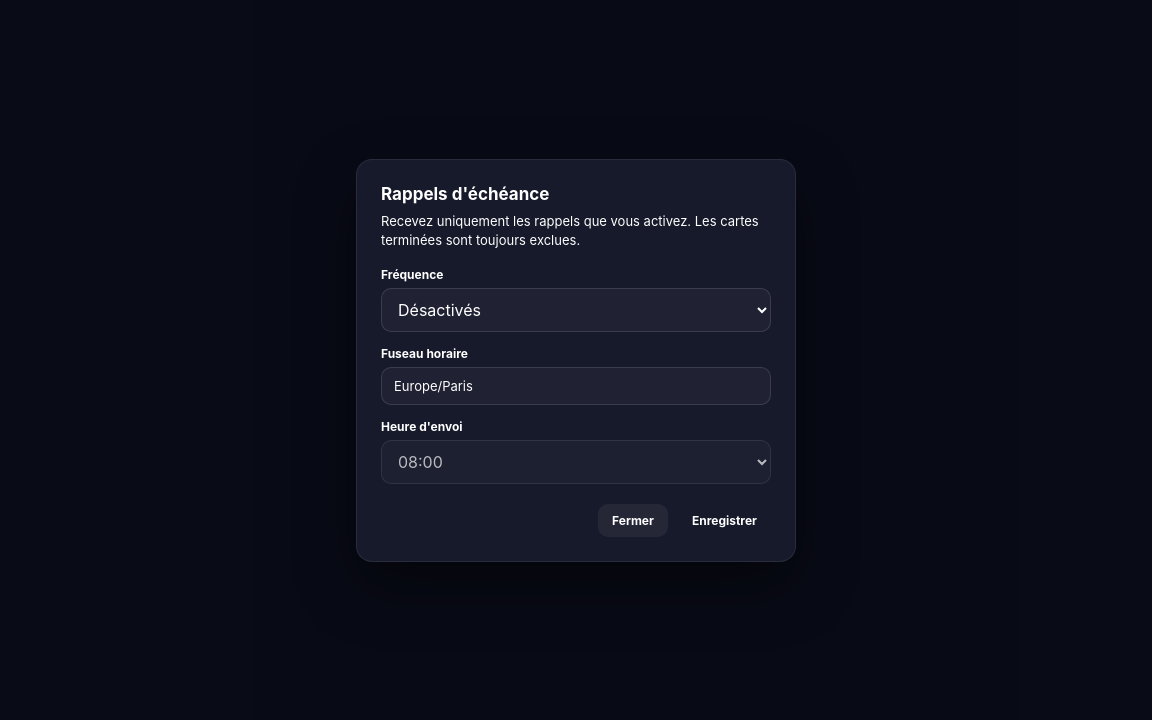
Scenario: loads explicit preferences and saves an opt-in
Select "Chaque jour" in the dropdown labelled "Fréquence". click: coordinates (576, 310)
box: [381,288,771,332]
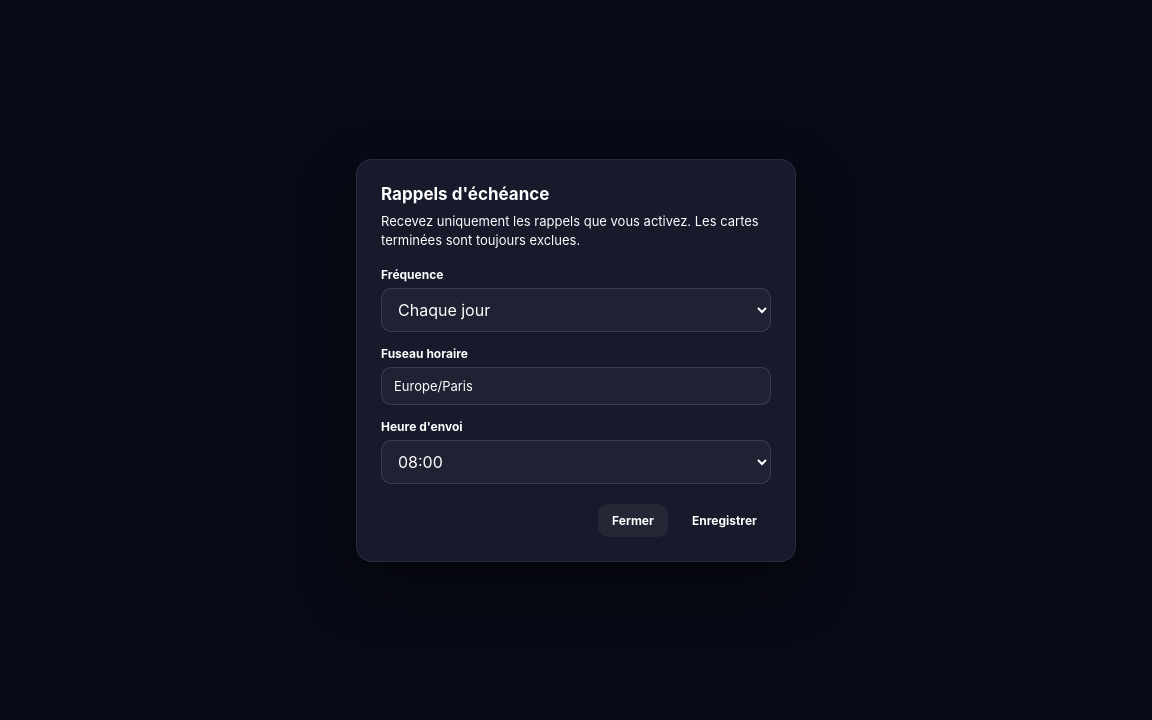
Select "09:00" in the dropdown labelled "Heure d'envoi". click: coordinates (576, 462)
box: [381,440,771,484]
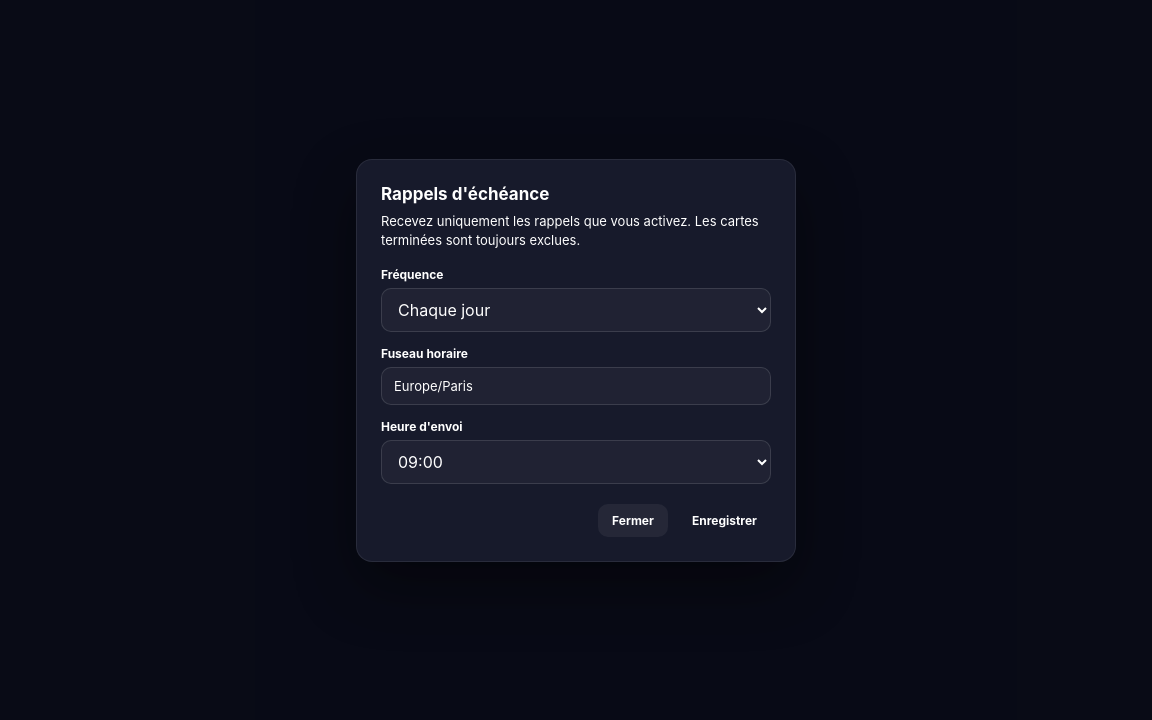
Click the button "Enregistrer". click: coordinates (724, 520)
box: [678,504,771,536]
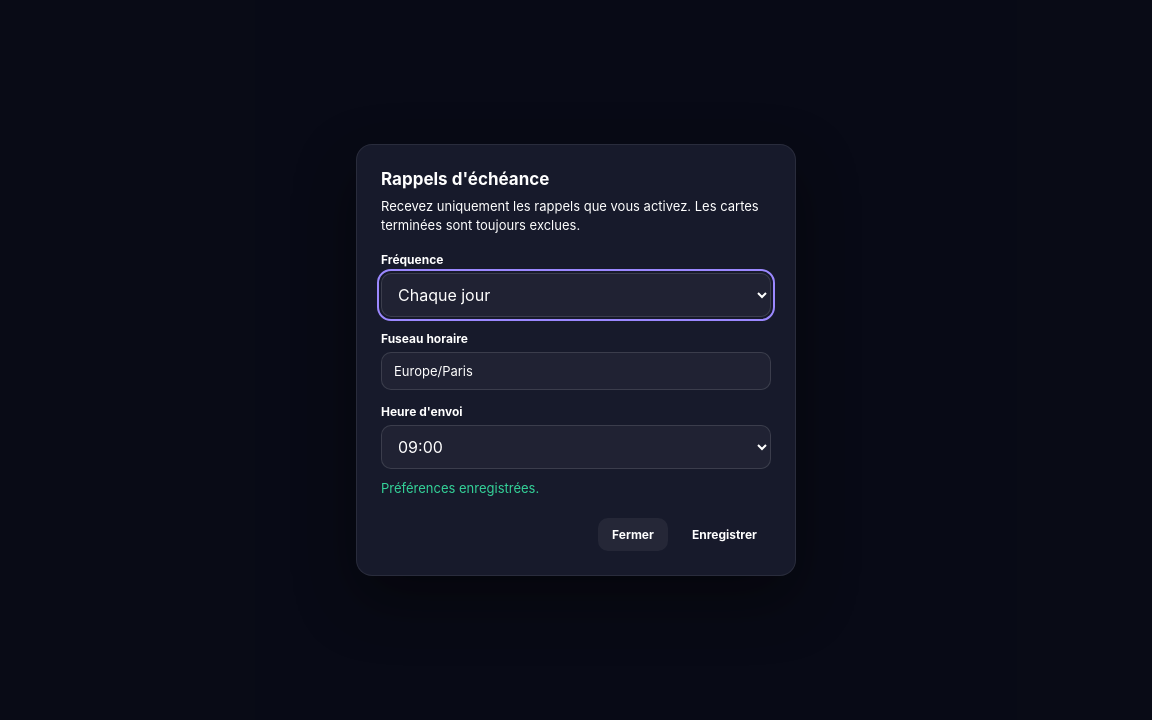
Result: the text "Préférences enregistrées." is shown at [381,480,539,496]
